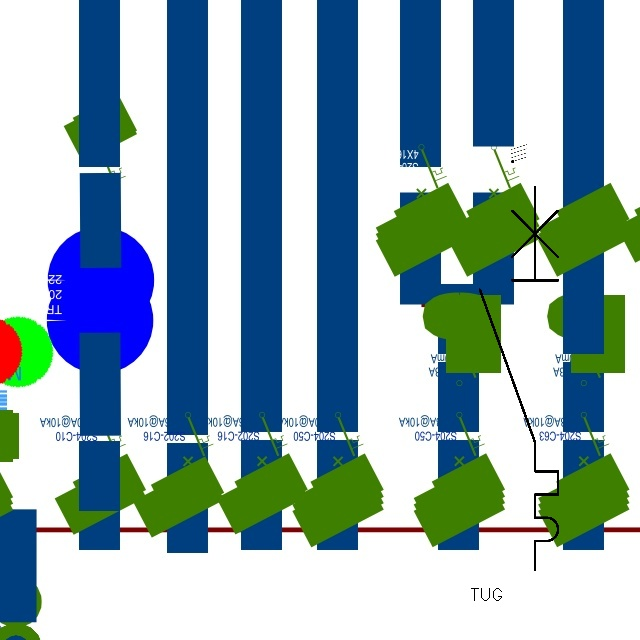interruptor_termomagnetico: (470, 177, 568, 580)
